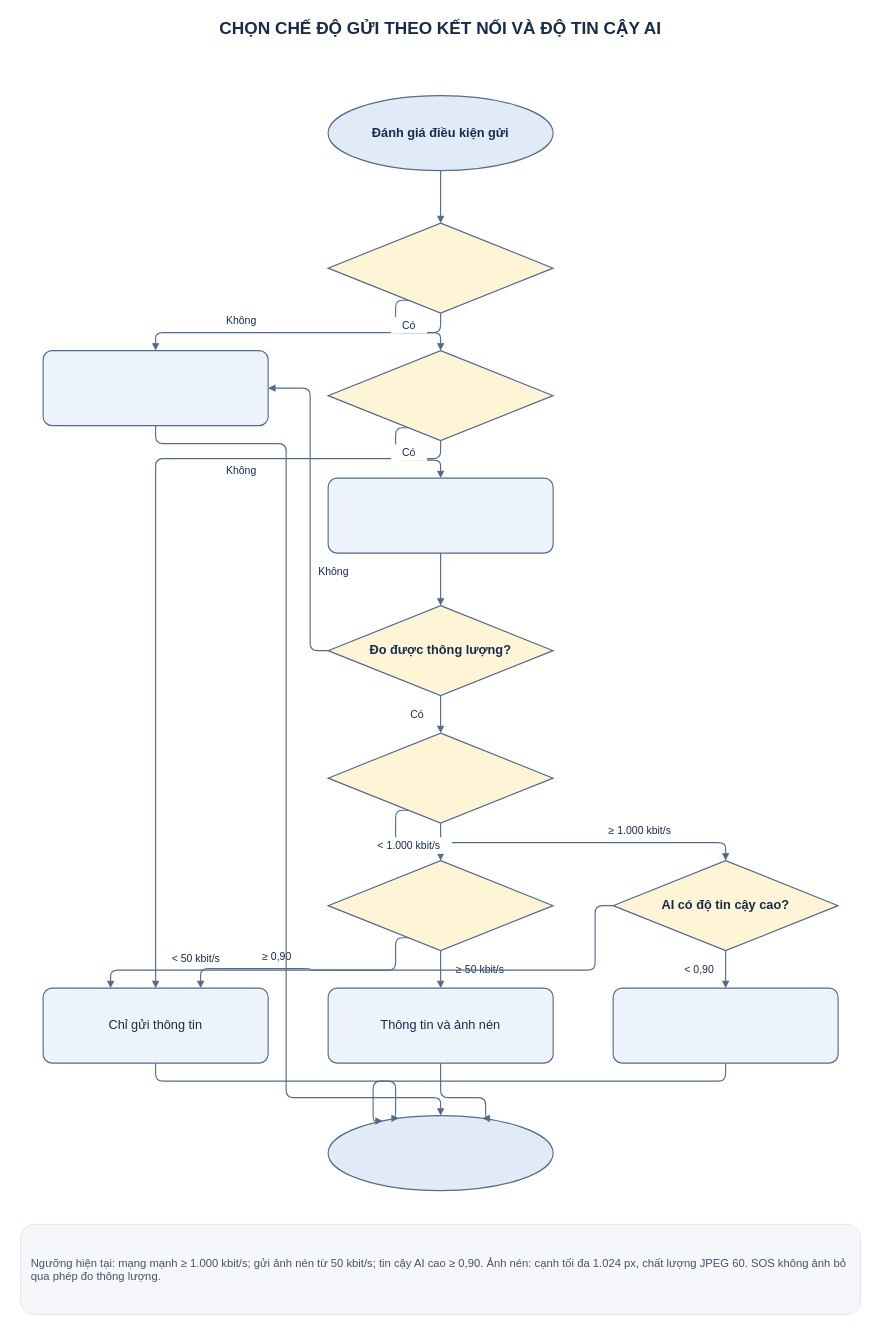
Some shapes in this 881 by 1328 pixel diagram are drawn without their labels. Each missing label, with the box of its shape:
Chọn SMS dự phòng: (42, 350, 268, 426)
Có kết nối dữ liệu?: (327, 222, 553, 313)
Mạng mạnh?: (327, 732, 553, 823)
Thông tin và ảnh gốc: (612, 987, 838, 1063)
Trả chế độ gửi đã chọn: (327, 1115, 553, 1191)
Yêu cầu có ảnh?: (327, 350, 553, 441)
Đo thông lượng tới máy chủ /probe, tối đa 6 giây: (327, 477, 553, 553)
Đủ băng thông gửi ảnh nén?: (327, 860, 553, 951)
